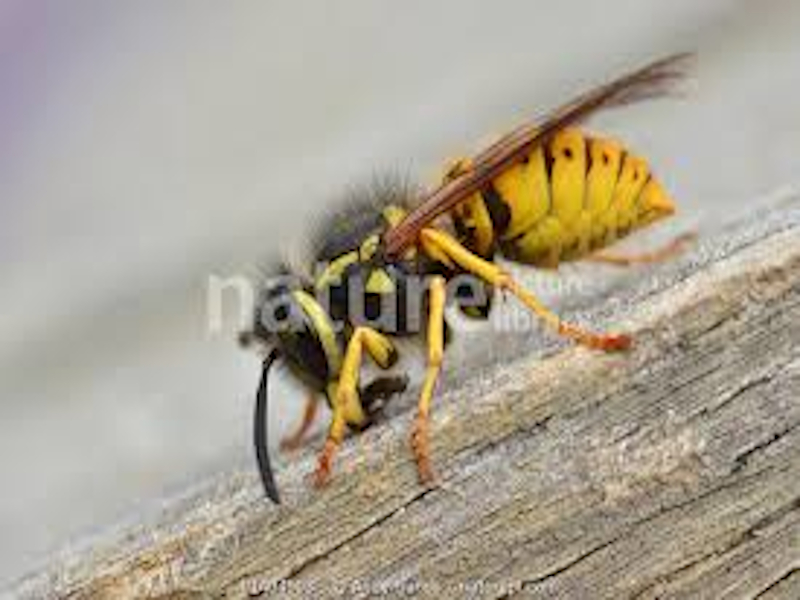chax: (221, 25, 739, 515)
